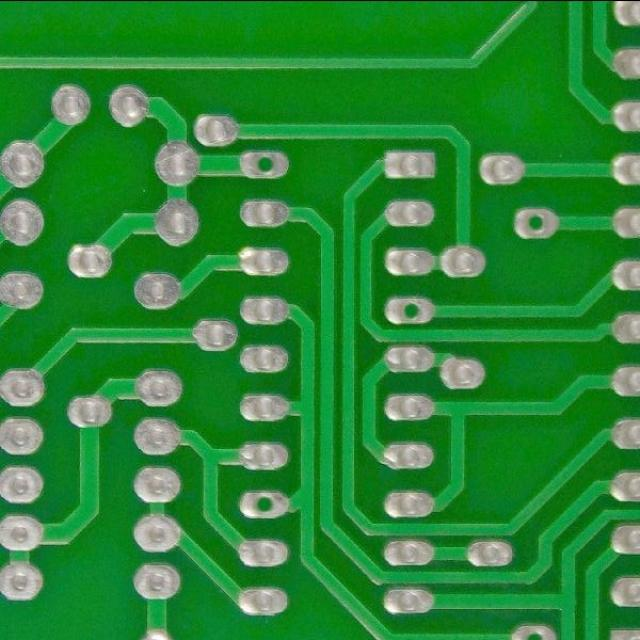Missing_Hole: (236, 146, 294, 184), (509, 203, 563, 243), (235, 486, 291, 524), (381, 292, 438, 329), (504, 618, 562, 640)
